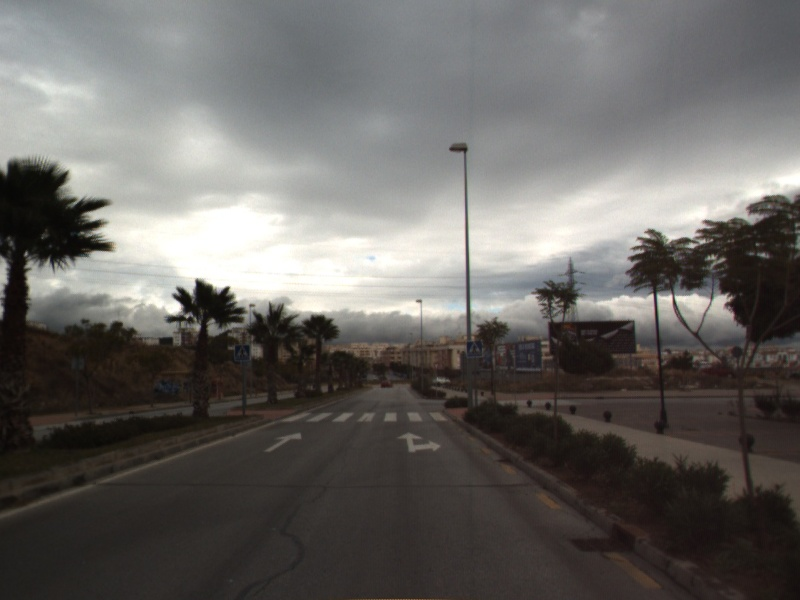STRAIGHT: (262, 430, 303, 454)
STRAIGHT_RIGHT: (395, 430, 442, 454)
